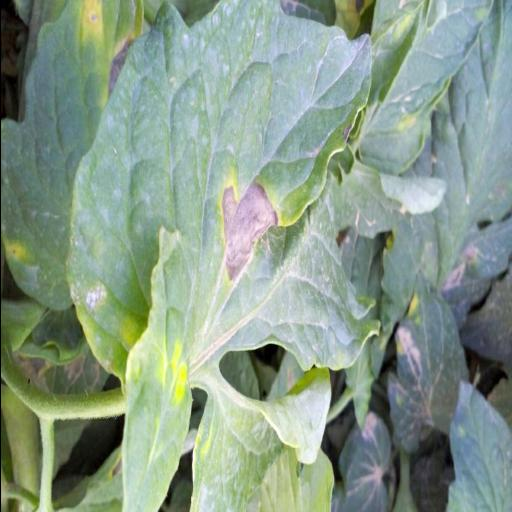Early Blight: (64, 0, 374, 392)
